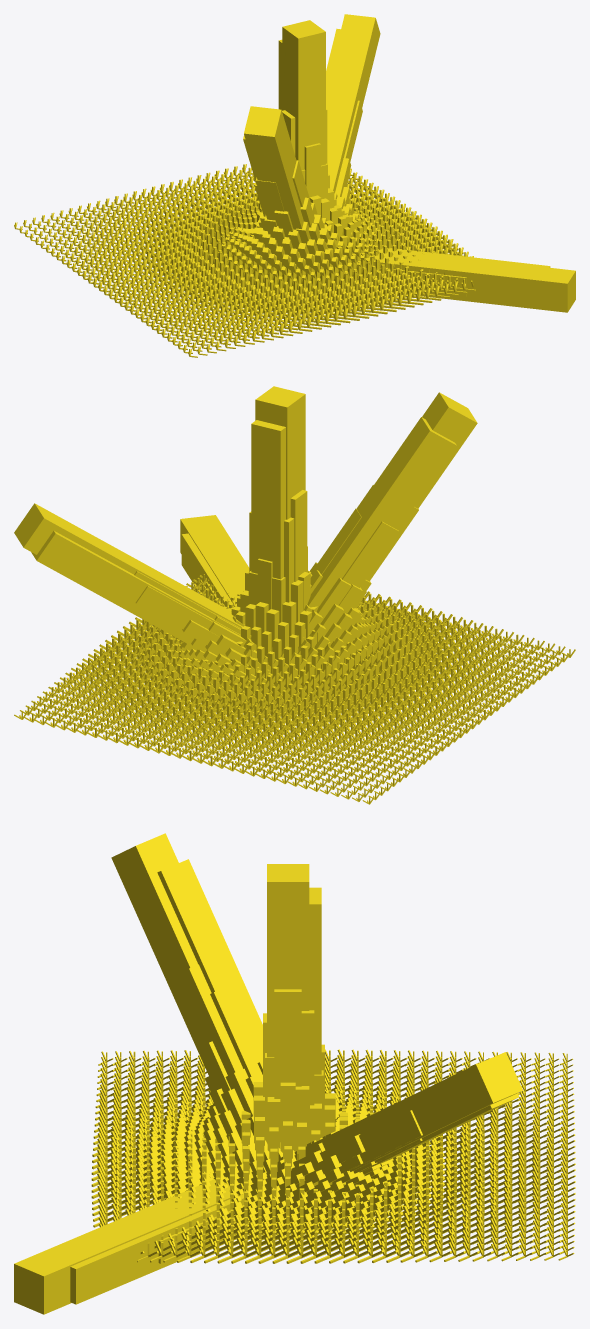
The model's file is Elements_ElementInstance.glb.
3 renders of one model, top to bottom at view 1: azimuth 30°, elevation 25°; view 2: azimuth 150°, elevation 25°; view 3: azimuth 270°, elevation 25°, orthographic. The views are drawn at different scales.
Parts seen in each view (by area): view 1: 5dbbf4d4-1f69-49c0-8406-f4631d7d4ae6_mesh (×7); view 2: 5dbbf4d4-1f69-49c0-8406-f4631d7d4ae6_mesh (×13); view 3: 5dbbf4d4-1f69-49c0-8406-f4631d7d4ae6_mesh (×11).
Boxes of the visible parts, <box> form: 5dbbf4d4-1f69-49c0-8406-f4631d7d4ae6_mesh (×7): <box>243,14,575,312</box>; 5dbbf4d4-1f69-49c0-8406-f4631d7d4ae6_mesh (×13): <box>14,386,477,665</box>; 5dbbf4d4-1f69-49c0-8406-f4631d7d4ae6_mesh (×11): <box>14,833,522,1314</box>.
Bounding box in the file's own units: 60.14 × 38.65 × 60.39.
